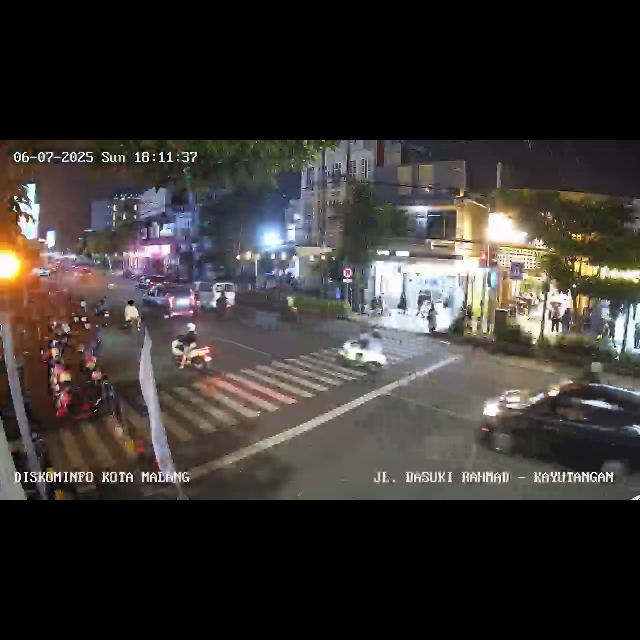car: (478, 378, 640, 488), (140, 284, 198, 320)
motorcycle: (335, 326, 389, 379), (170, 321, 214, 377), (122, 298, 140, 334), (280, 293, 300, 325), (74, 297, 92, 331), (211, 289, 231, 317), (96, 296, 112, 324)
person: (427, 302, 438, 336), (550, 302, 560, 334), (562, 306, 572, 334), (632, 316, 640, 350), (374, 290, 384, 316), (606, 319, 616, 345), (397, 290, 407, 314), (415, 293, 423, 319)
